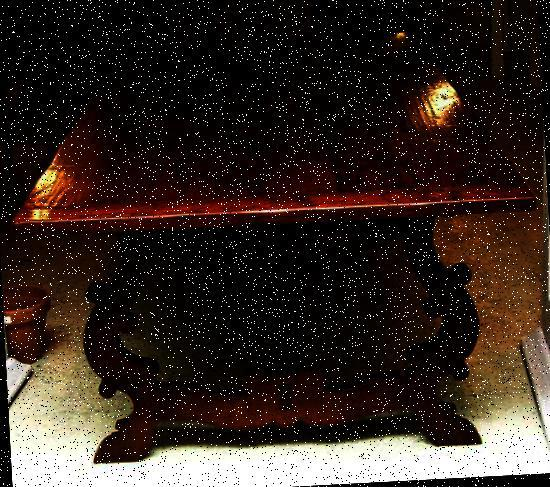Mesa: (5, 17, 544, 473)
